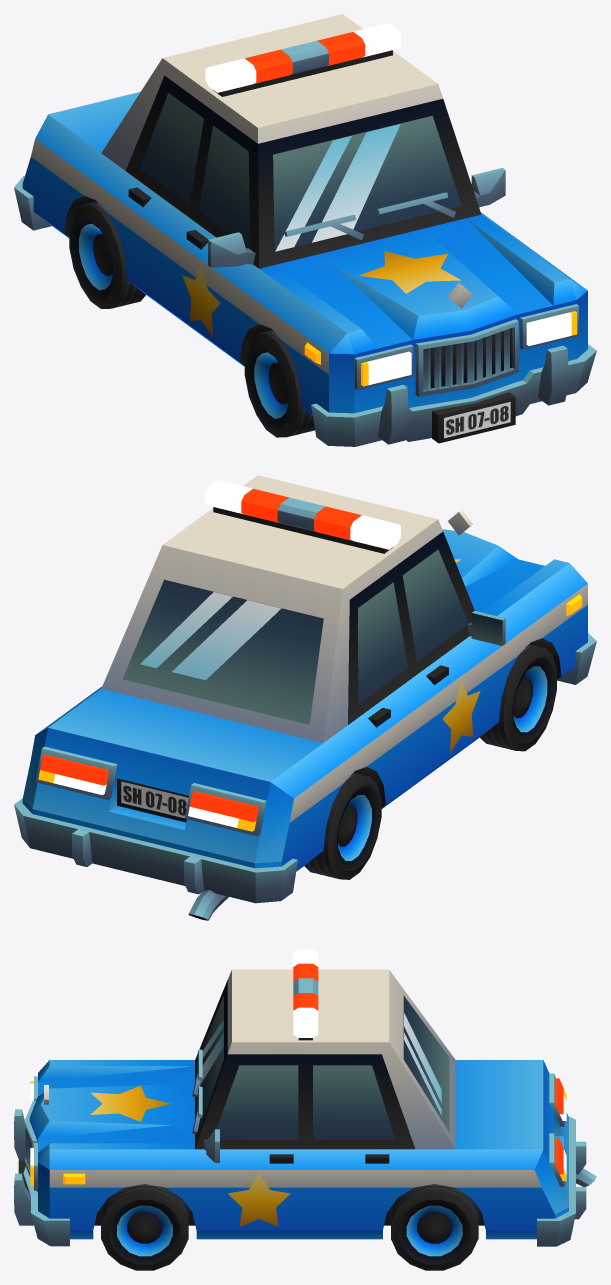
The model's file is Police_Car.fbx.
3 renders of one model, top to bottom at view 1: azimuth 30°, elevation 25°; view 2: azimuth 150°, elevation 25°; view 3: azimuth 270°, elevation 25°, orthographic. The views are drawn at different scales.
Parts seen in each view (by area): view 1: Police_Car; view 2: Police_Car; view 3: Police_Car.
Boxes of the visible parts, x1,y1,x2,y2 form: Police_Car: [14, 14, 596, 446]; Police_Car: [14, 475, 596, 920]; Police_Car: [14, 949, 596, 1270].
Size of the model in its own units: 2.28 by 2.08 by 4.73.
Materials: 1 (1 with a texture image).
